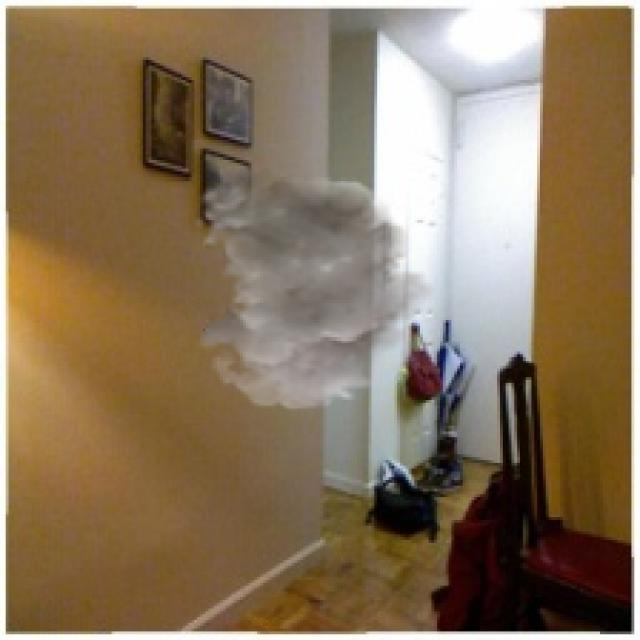Smoke: (191, 166, 440, 411)
